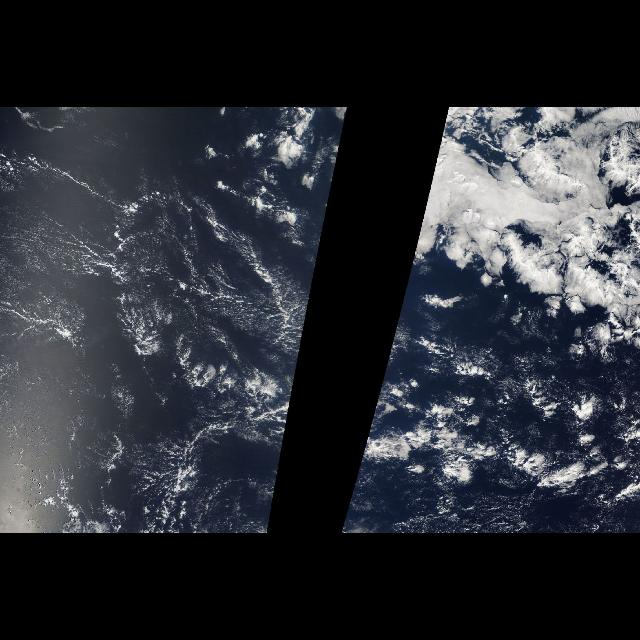Flower: (342, 134, 636, 526)
Sugar: (8, 139, 114, 367), (179, 219, 325, 363)
